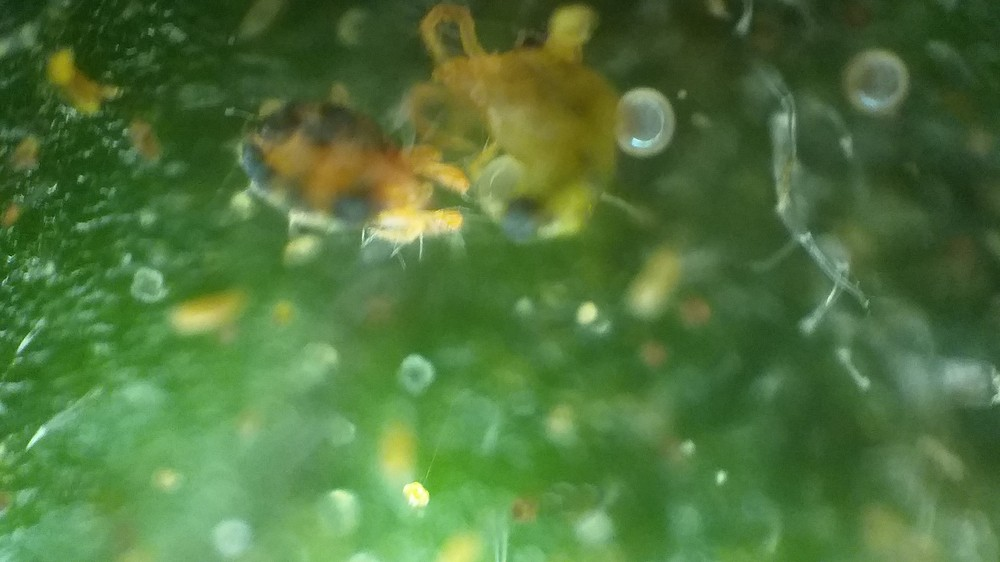Aracnido Rojo: (211, 89, 484, 294), (406, 1, 624, 253)
